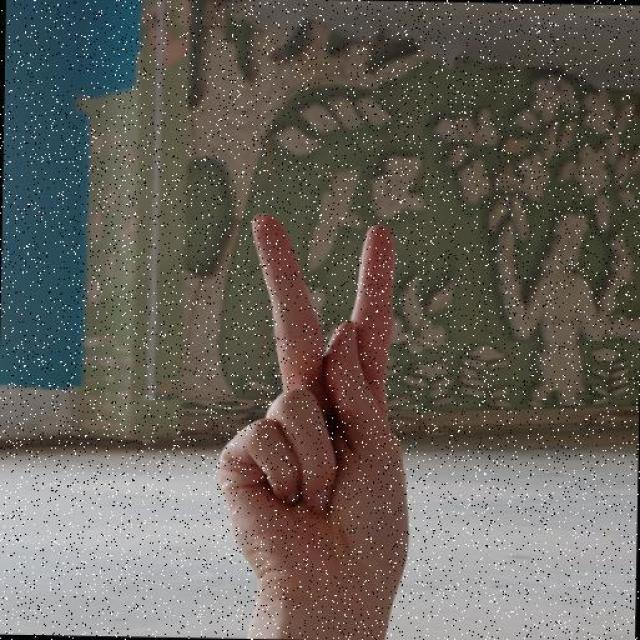K: (213, 210, 417, 614)
